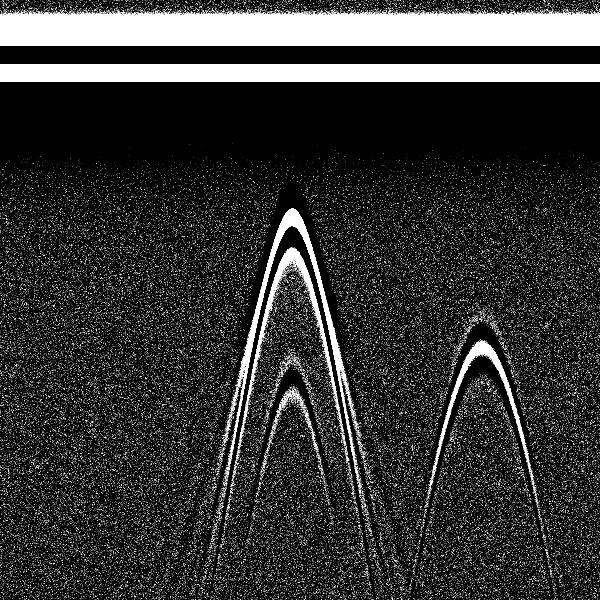pipe: (437, 4, 526, 409), (249, 3, 333, 294)
